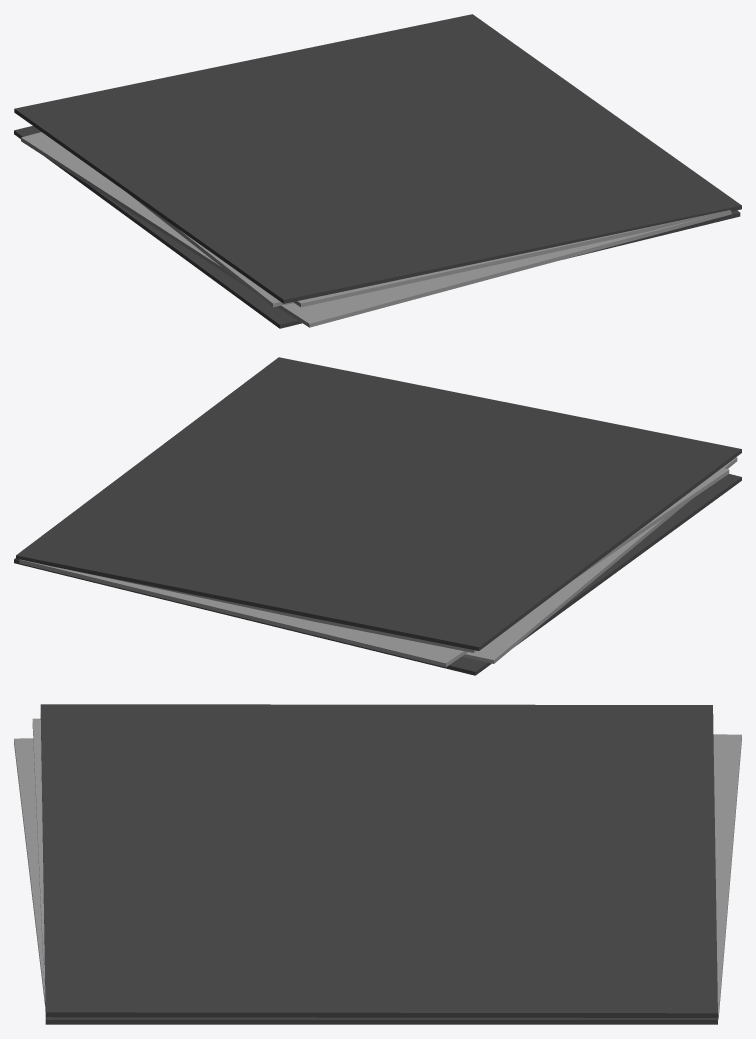
Rendered from folder.fbx.
3 renders of one model, top to bottom at view 1: azimuth 30°, elevation 25°; view 2: azimuth 150°, elevation 25°; view 3: azimuth 270°, elevation 25°, orthographic. The views are drawn at different scales.
Visible parts, largest first — view 1: Folder; view 2: Folder; view 3: Folder.
Boxes of the visible parts, bbox=[...] form: Folder: bbox=[14, 14, 741, 328]; Folder: bbox=[14, 357, 741, 675]; Folder: bbox=[14, 704, 741, 1024].
Size of the model in its own units: 69.05 by 4.2 by 73.6.
